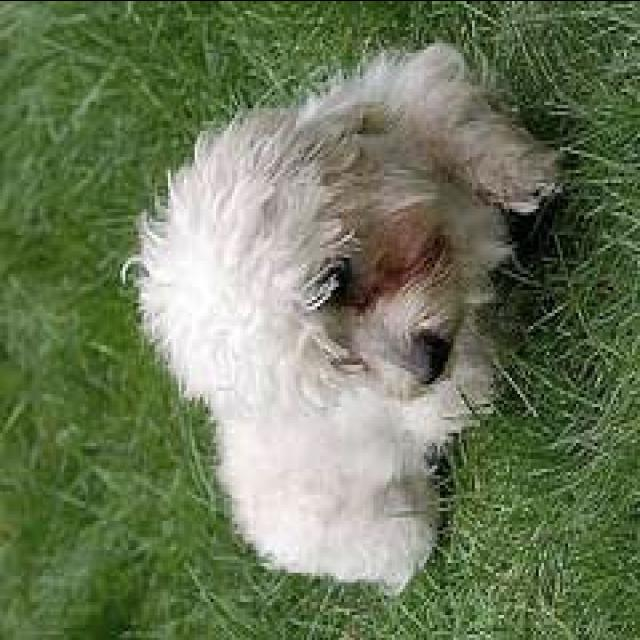dandie_dinmont: (103, 16, 590, 614)
